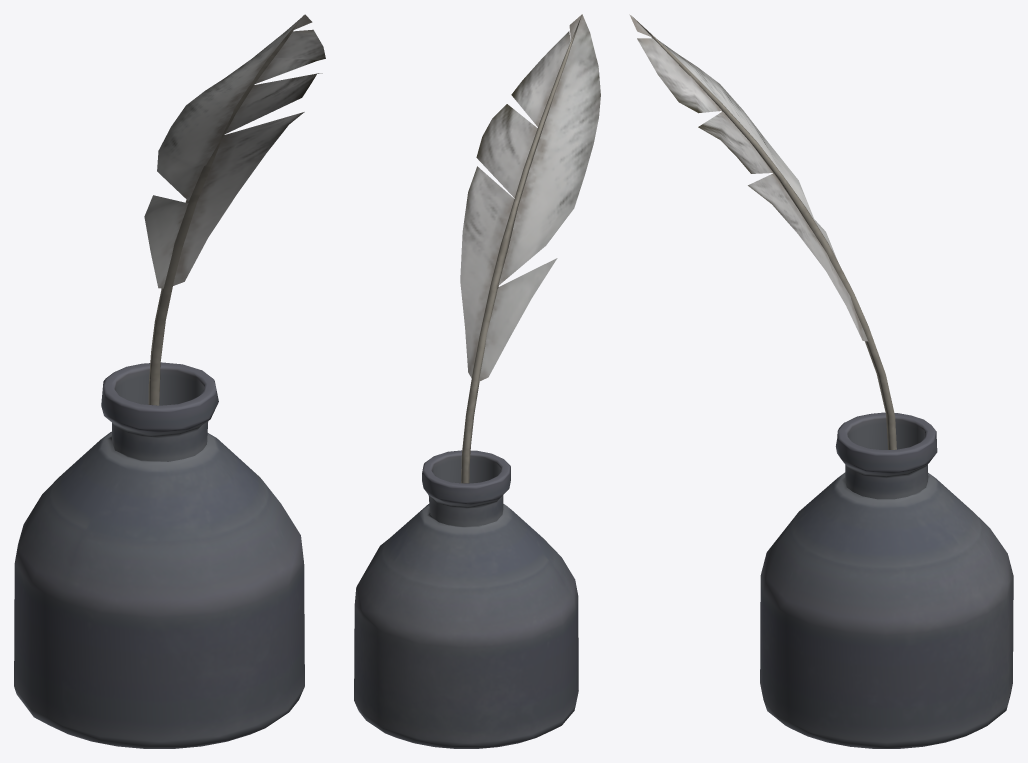
Rendered from SM_Prop_InkBox_A.fbx.
The picture shows the model from 3 angles, left to right: view 1: azimuth 30°, elevation 25°; view 2: azimuth 150°, elevation 25°; view 3: azimuth 270°, elevation 25°; orthographic projection. The views are drawn at different scales.
Visible parts, largest first — view 1: SM_Prop_InkBox_A_LOD0; view 2: SM_Prop_InkBox_A_LOD0; view 3: SM_Prop_InkBox_A_LOD0.
Boxes of the visible parts, x1,y1,x2,y2 form: SM_Prop_InkBox_A_LOD0: (14, 14, 325, 748); SM_Prop_InkBox_A_LOD0: (354, 14, 600, 748); SM_Prop_InkBox_A_LOD0: (629, 14, 1013, 748).
Bounding box in the file's own units: 9.74 × 14.71 × 28.93.
Materials: 1 (1 with a texture image).
